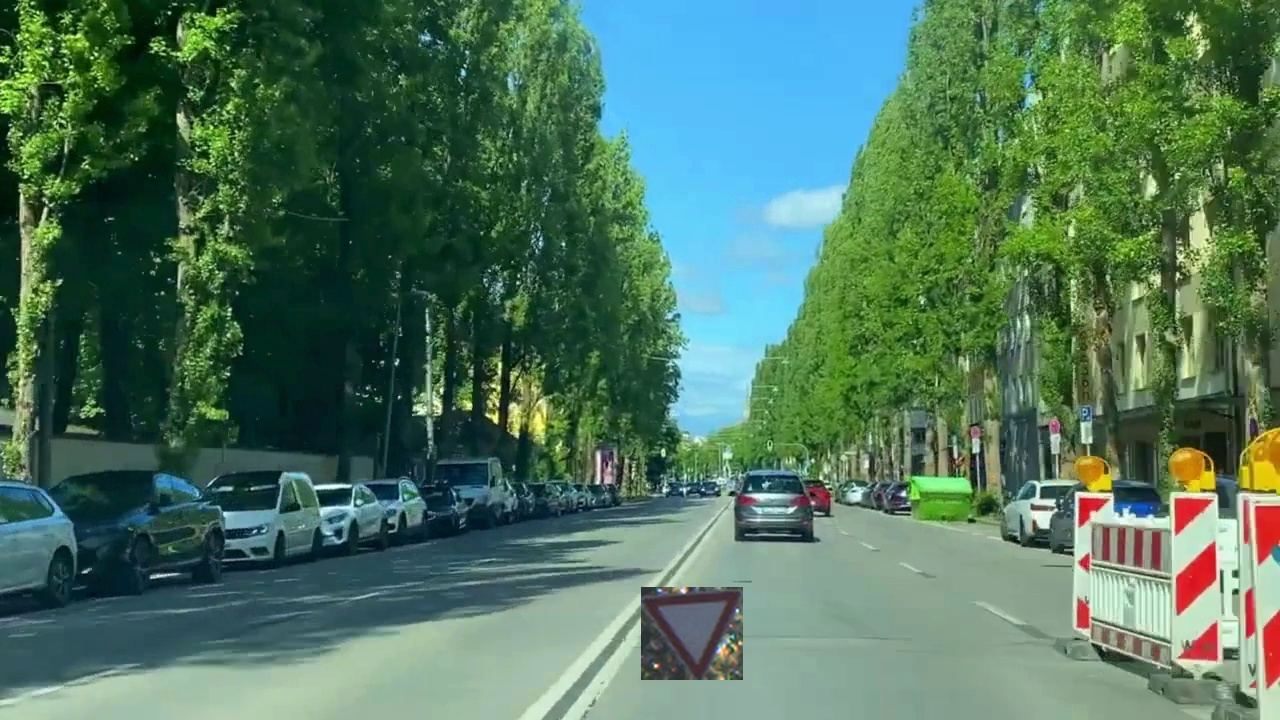Yield: (641, 587, 743, 680)
